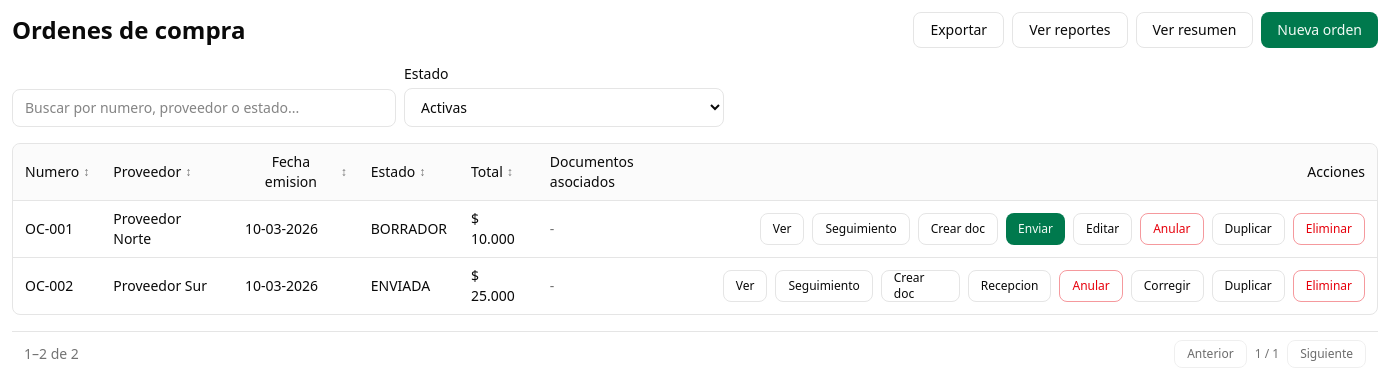
Scenario: compras/ListPage › lista registros y permite filtrar/buscar
This screenshot has width=1378, height=385.
Expected: the text "OC-001" is shown, [13,200,101,258]
Expected: the text "OC-002" is shown, [13,258,101,314]
Type "Sur" into the field with placeholder "Buscar por numero, proveedor o estado...". click: [204, 108]
box: [12,89,396,127]
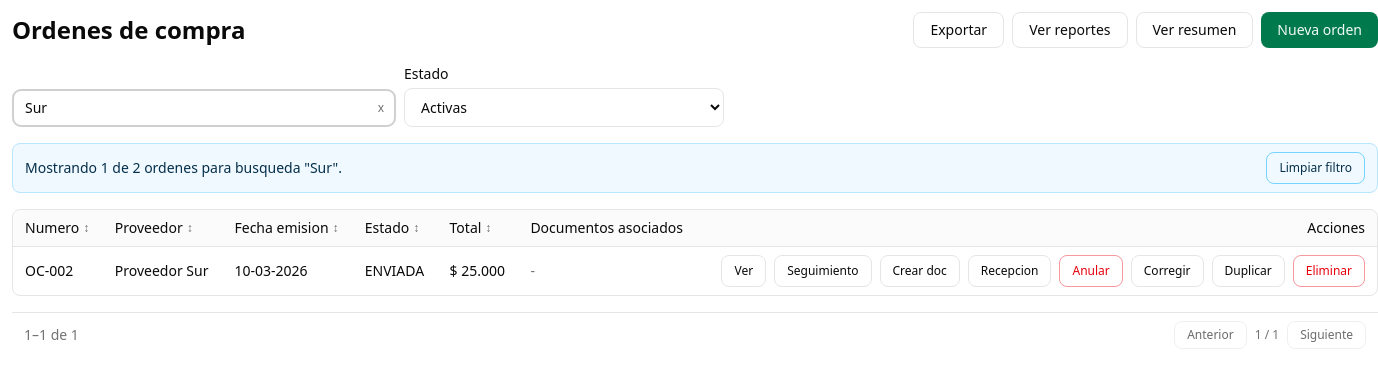
Expected: the text "OC-002" is shown, [13,246,103,295]
Expected: the text "OC-001" is gone
